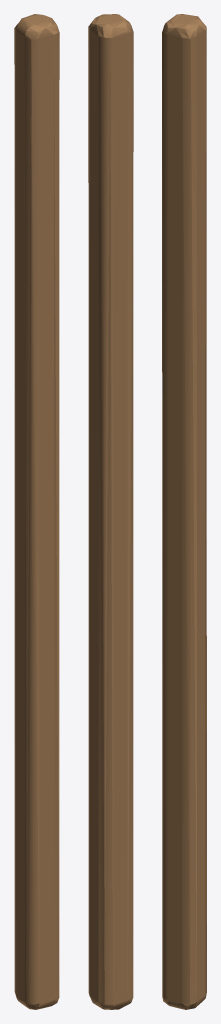
Rendered from ShopCornerPost90.glb.
3 renders of one model, left to right at view 1: azimuth 30°, elevation 25°; view 2: azimuth 210°, elevation 25°; view 3: azimuth 330°, elevation 25°, orthographic.
Parts seen in each view (by area): view 1: PBK_ShopCornerPost90.021; view 2: PBK_ShopCornerPost90.021; view 3: PBK_ShopCornerPost90.021.
Boxes of the visible parts, left/top/right/bottom form: PBK_ShopCornerPost90.021: left=14, top=14, right=59, bottom=1009; PBK_ShopCornerPost90.021: left=88, top=14, right=133, bottom=1009; PBK_ShopCornerPost90.021: left=162, top=14, right=206, bottom=1009.
Size of the model in its own units: 0.1 by 2.84 by 0.1.
